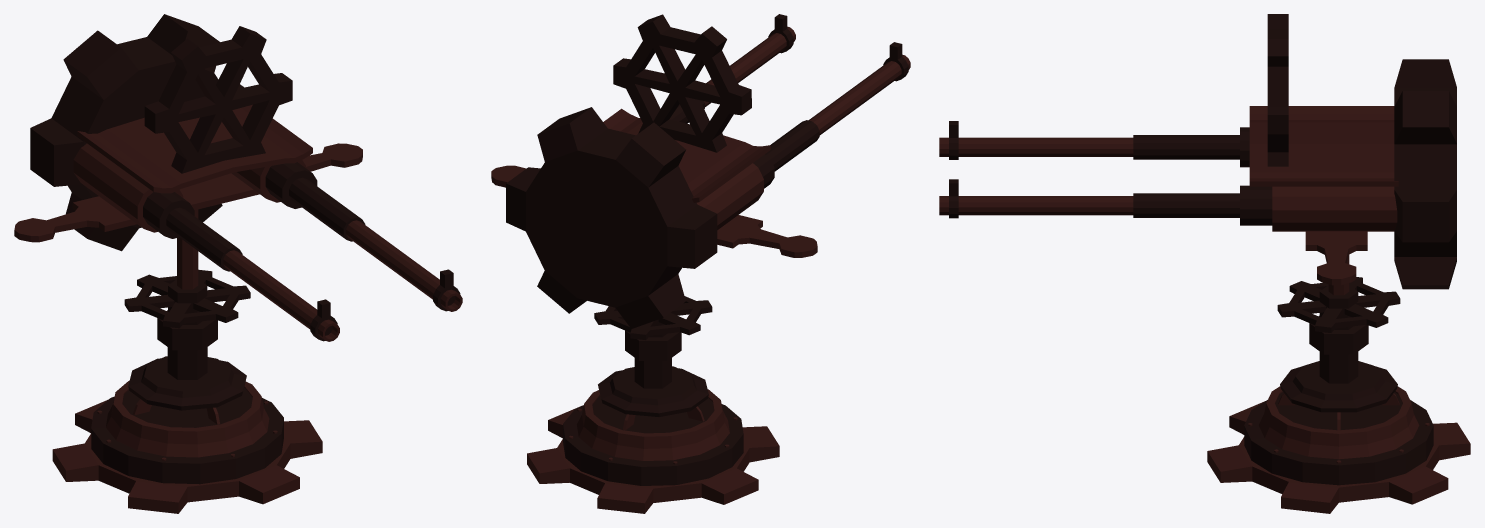
File: Gun_8.obj
3 views of the same model, side by side, from view 1: azimuth 30°, elevation 25°; view 2: azimuth 150°, elevation 25°; view 3: azimuth 270°, elevation 25° (orthographic). The views are drawn at different scales.
Parts seen in each view (by area): view 1: Gun_8_Gun_Cylinder.060, Gun_8_Base_Cylinder.056, Gun_8_Mid_Cylinder.245; view 2: Gun_8_Gun_Cylinder.060, Gun_8_Base_Cylinder.056, Gun_8_Mid_Cylinder.245; view 3: Gun_8_Gun_Cylinder.060, Gun_8_Base_Cylinder.056, Gun_8_Mid_Cylinder.245.
Part boxes in pixels (x1=…): Gun_8_Gun_Cylinder.060: x1=14, y1=14, x2=462, y2=341; Gun_8_Base_Cylinder.056: x1=52, y1=356, x2=322, y2=513; Gun_8_Mid_Cylinder.245: x1=124, y1=209, x2=250, y2=379; Gun_8_Gun_Cylinder.060: x1=491, y1=14, x2=910, y2=328; Gun_8_Base_Cylinder.056: x1=527, y1=366, x2=779, y2=513; Gun_8_Mid_Cylinder.245: x1=594, y1=296, x2=712, y2=388; Gun_8_Gun_Cylinder.060: x1=939, y1=14, x2=1456, y2=289; Gun_8_Base_Cylinder.056: x1=1207, y1=361, x2=1470, y2=513; Gun_8_Mid_Cylinder.245: x1=1277, y1=255, x2=1400, y2=383.
Bounding box in the file's own units: 2.02 × 2.51 × 2.78.
